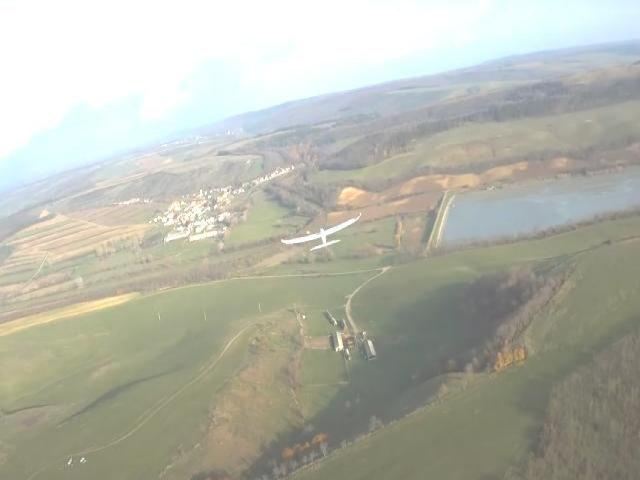iha: (278, 213, 367, 256)
